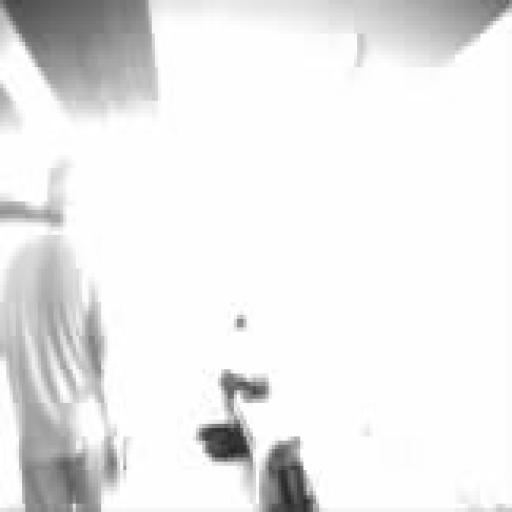human: (0, 164, 116, 511)
